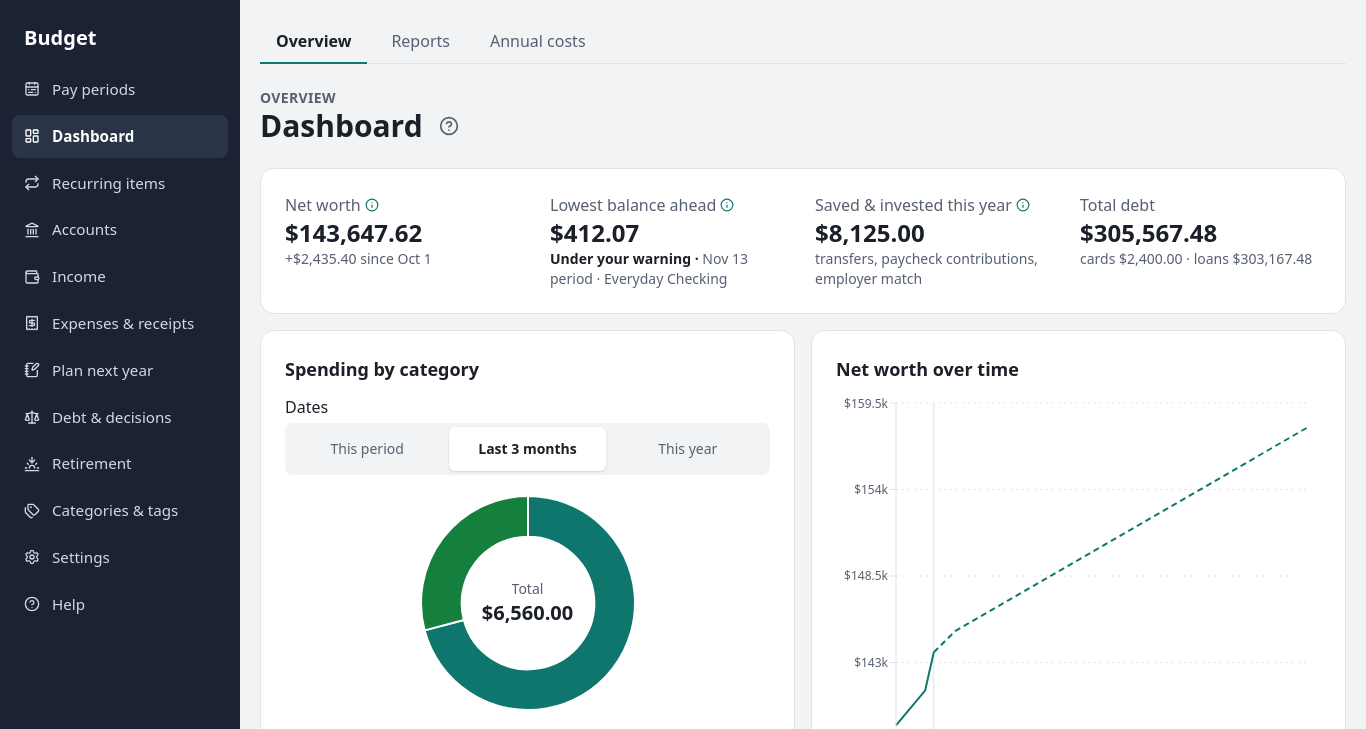
Dashboard › asks again when the dates are changed, and says what a pay period covers
Expected: the radio button labelled "Last 3 months" is checked, [449,427,606,471]
Step 1. Click the radio button labelled "This period" → (367, 449), box [330,439,404,458]
(page scrolled)
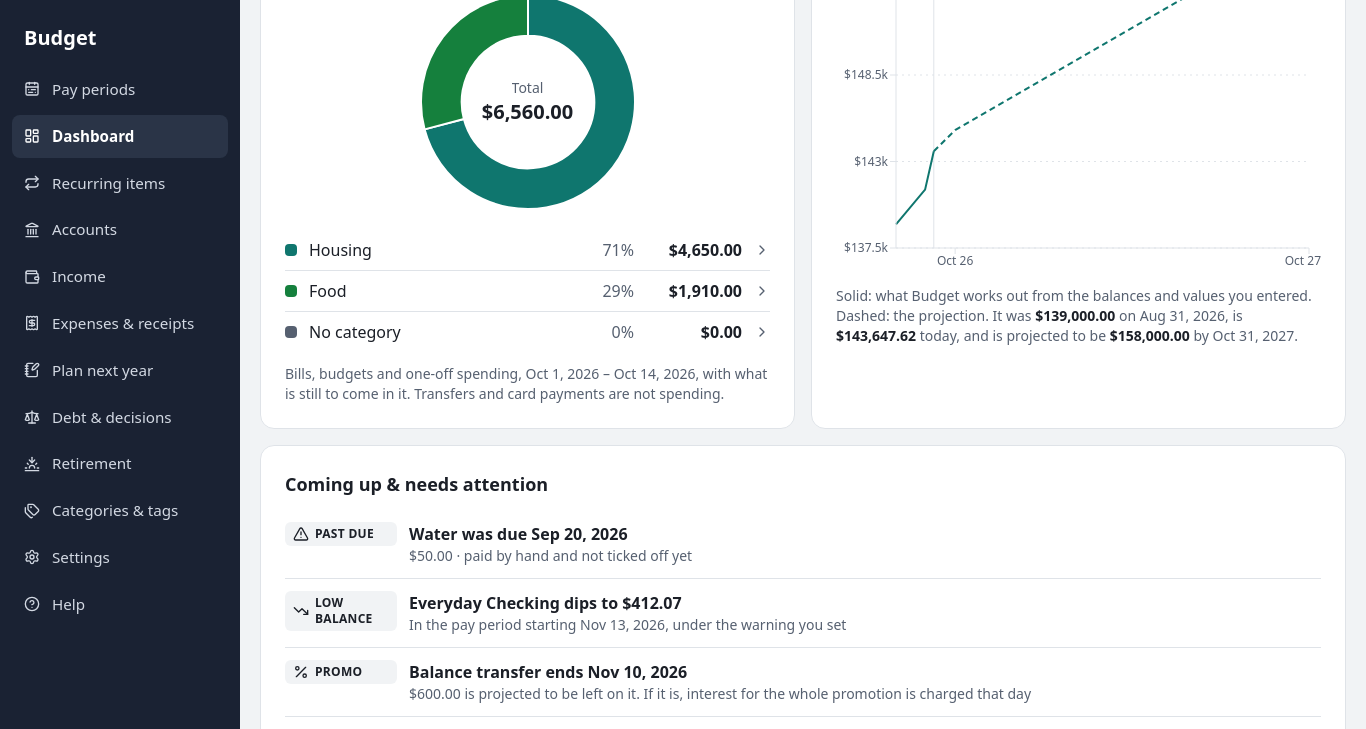
Expected: the text "Oct 1, 2026 – Oct 14, 2026, with what is still to come in it" is shown, [285,364,770,404]
